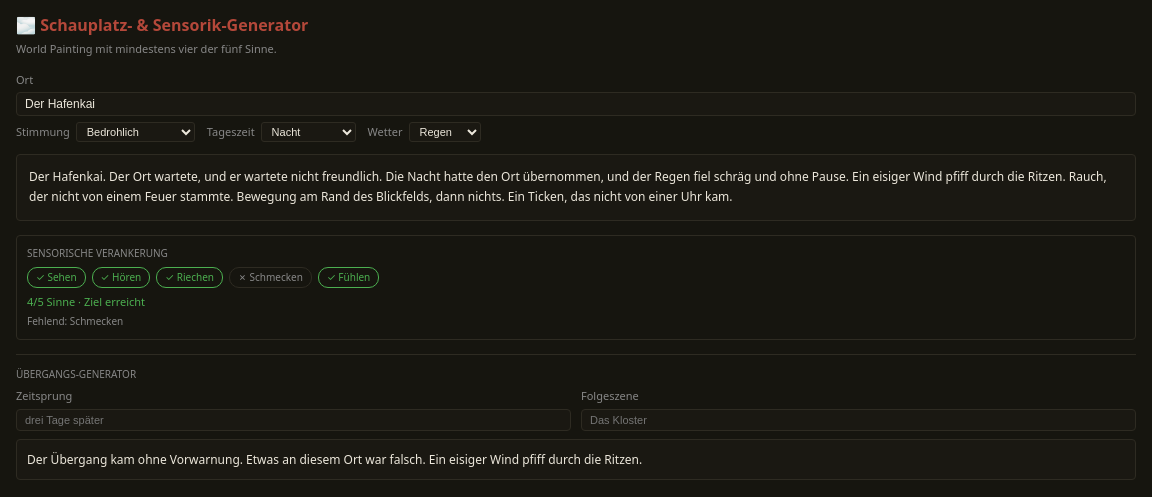
AtmosphereProseGenerator › reagiert auf Tageszeit
Select "Dämmerung" in the dropdown with test id "atmosphere-time-select". click: (308, 132)
box: [261,122,356,142]
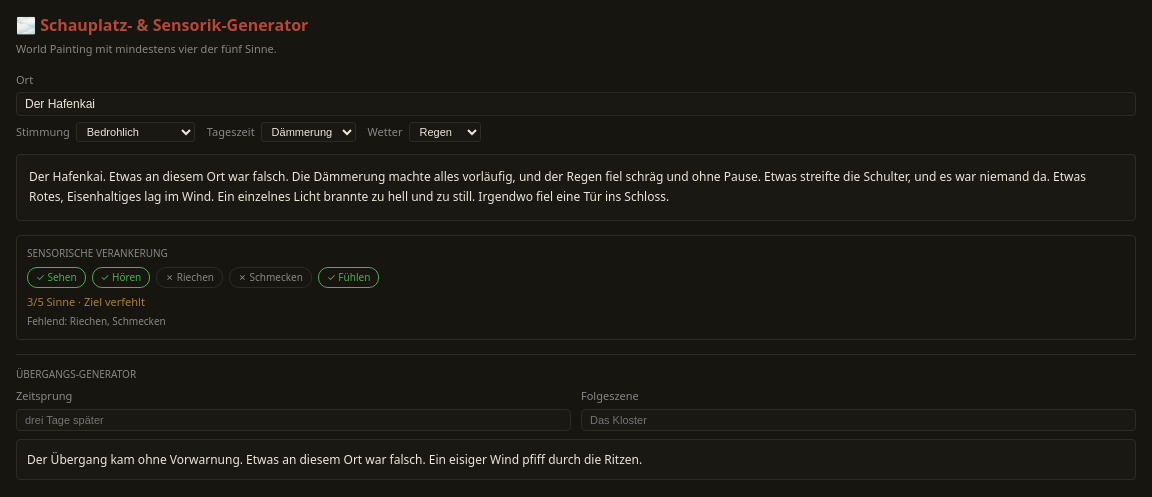
expect the text with test id "atmosphere-output" shows "Dämmerung": met, box [29,168,1086,205]
